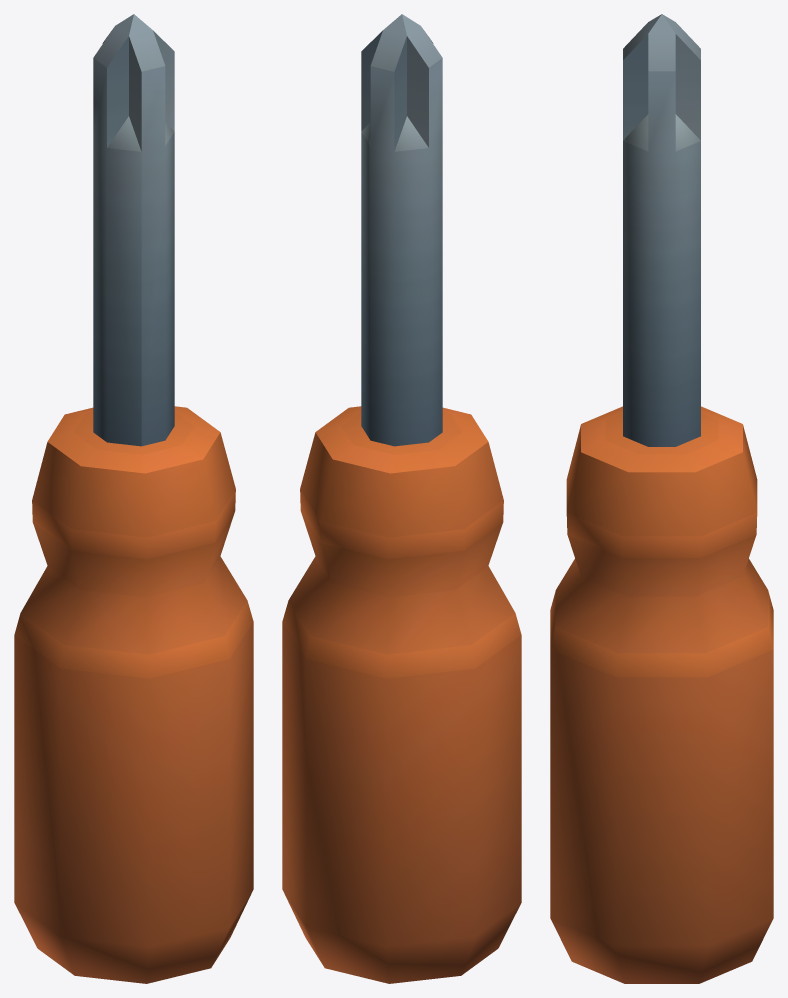
Rendered from screwdriver_b_short_color.glb.
3 renders of one model, left to right at view 1: azimuth 30°, elevation 25°; view 2: azimuth 150°, elevation 25°; view 3: azimuth 270°, elevation 25°, orthographic.
Parts seen in each view (by area): view 1: screwdriver_B_short_color; view 2: screwdriver_B_short_color; view 3: screwdriver_B_short_color.
Part boxes in pixels (box(x1,y1,x2,y2)): screwdriver_B_short_color: box(14, 14, 253, 983); screwdriver_B_short_color: box(282, 14, 521, 983); screwdriver_B_short_color: box(550, 14, 773, 983).
Bounding box in the file's own units: 0.1513 × 0.7136 × 0.1513.
1 material, 1 textured.
